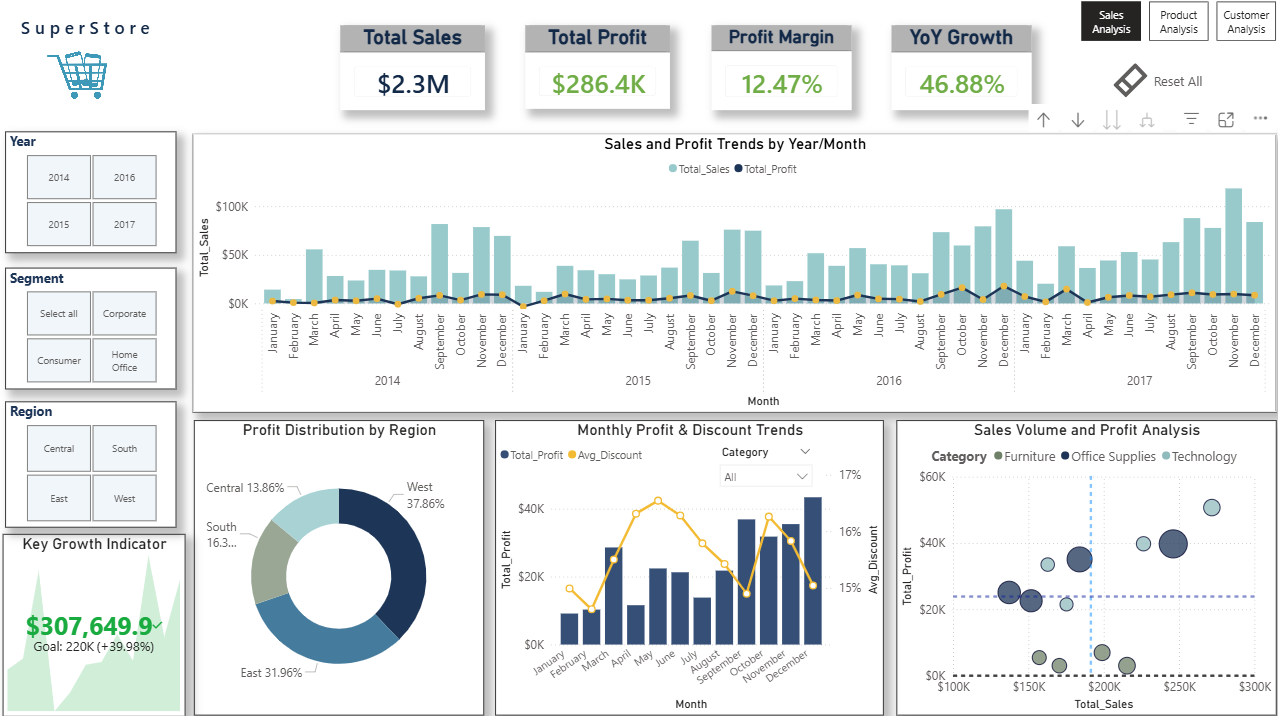

The page's visual inventory and layout, read from the dashboard file:
{"tool":"powerbi","page":{"name":"Sales Analysis","canvas":[1600,900],"ordinal":0},"visuals":[{"type":"cardVisual","title":"YoY Growth","fields":{"Data":["Measures!.YoY_Growth %"]},"box":[1110.2,38.3,174.2,105.7],"z":0},{"type":"lineStackedColumnComboChart","title":"Sales and Profit Trends by Year/Month","fields":{"Category":["DateTable.Date.Variation.Date Hierarchy.Year","DateTable.Date.Variation.Date Hierarchy.Month"],"Y":["Measures!.Total_Sales"],"Y2":["Measures!.Total_Profit"]},"box":[241,174.2,1348.1,346.8],"z":1000},{"type":"donutChart","title":"Profit Distribution by Region","fields":{"Category":["Superstore.Region"],"Y":["Measures!.Total_Profit"]},"box":[242.6,530.9,360.7,367],"z":2000},{"type":"kpi","title":"Key Growth Indicator","fields":{"Indicator":["Measures!.Total_Sales"],"TrendLine":["DateTable.Month Short"],"Goal":["Measures!.Sales_LY"]},"box":[5,672.4,226.9,226.9],"z":3000},{"type":"slicer","title":"Segment","fields":{"Values":["Superstore.Segment"]},"box":[8.3,341,213,150.8],"z":4000},{"type":"slicer","title":"Region","fields":{"Values":["Superstore.Region"]},"box":[8.3,507.3,213,157],"z":5000},{"type":"slicer","title":"Year","fields":{"Values":["DateTable.Year"]},"box":[8.3,171.5,213,150.8],"z":6000},{"type":"scatterChart","title":"Sales Volume and Profit Analysis","fields":{"X":["Measures!.Total_Sales"],"Y":["Measures!.Total_Profit"],"Size":["Sum(Superstore.Quantity)"],"Series":["Superstore.Category"],"Category":["DateTable.Date.Variation.Date Hierarchy.Year"]},"box":[1116.5,530.9,472.7,367],"z":7000},{"type":"group","id":"g1","title":"Group 1","box":[617.3,530.9,483.6,367],"z":8000},{"type":"group","id":"g2","title":"Group 2","box":[14,21.5,186.6,51.3],"z":9000},{"type":"textbox","box":[14,21.5,186.6,51.3],"z":10000,"group":"g2"},{"type":"cardVisual","title":"Total Sales","fields":{"Data":["Measures!.Total_Sales"]},"box":[424.5,38.3,180.4,105.7],"z":10000},{"type":"cardVisual","title":"Total Profit","fields":{"Data":["Measures!.Total_Profit"]},"box":[655.2,38.3,180.4,104.2],"z":11000},{"type":"cardVisual","title":"Profit Margin","fields":{"Data":["Measures!.Profit_Margin"]},"box":[885.8,38.3,174.2,105.7],"z":12000},{"type":"pageNavigator","box":[1346.6,9.3,242.6,49.8],"z":13000},{"type":"lineStackedColumnComboChart","title":"Monthly Profit & Discount Trends","fields":{"Y":["Measures!.Total_Profit"],"Y2":["Measures!.Avg_Discount"],"Category":["DateTable.Date.Variation.Date Hierarchy.Month"]},"box":[617.3,530.9,483.6,367],"z":13000,"group":"g1"},{"type":"actionButton","box":[23.3,57.2,163.3,74.6],"z":14000},{"type":"slicer","fields":{"Values":["Superstore.Category"]},"box":[886.6,556.8,135.3,59.1],"z":14000,"group":"g1"},{"type":"actionButton","box":[1382.6,81.7,168.7,50.4],"z":15000}]}

Visuals, with their boxes in screenshot pixels (x1, y1, x2, y2), scaled from the page's 1600x900 canvas onto the 1278x716 screenshot:
"YoY Growth" cardVisual: {"left": 887, "top": 30, "right": 1026, "bottom": 115}
"Sales and Profit Trends by Year/Month" lineStackedColumnComboChart: {"left": 192, "top": 139, "right": 1269, "bottom": 414}
"Profit Distribution by Region" donutChart: {"left": 194, "top": 422, "right": 482, "bottom": 714}
"Key Growth Indicator" kpi: {"left": 4, "top": 535, "right": 185, "bottom": 715}
"Segment" slicer: {"left": 7, "top": 271, "right": 177, "bottom": 391}
"Region" slicer: {"left": 7, "top": 404, "right": 177, "bottom": 528}
"Year" slicer: {"left": 7, "top": 136, "right": 177, "bottom": 256}
"Sales Volume and Profit Analysis" scatterChart: {"left": 892, "top": 422, "right": 1269, "bottom": 714}
"Group 1" group: {"left": 493, "top": 422, "right": 879, "bottom": 714}
"Group 2" group: {"left": 11, "top": 17, "right": 160, "bottom": 58}
textbox: {"left": 11, "top": 17, "right": 160, "bottom": 58}
"Total Sales" cardVisual: {"left": 339, "top": 30, "right": 483, "bottom": 115}
"Total Profit" cardVisual: {"left": 523, "top": 30, "right": 667, "bottom": 113}
"Profit Margin" cardVisual: {"left": 708, "top": 30, "right": 847, "bottom": 115}
pageNavigator: {"left": 1076, "top": 7, "right": 1269, "bottom": 47}
"Monthly Profit & Discount Trends" lineStackedColumnComboChart: {"left": 493, "top": 422, "right": 879, "bottom": 714}
actionButton: {"left": 19, "top": 46, "right": 149, "bottom": 105}
slicer - Superstore.Category: {"left": 708, "top": 443, "right": 816, "bottom": 490}
actionButton: {"left": 1104, "top": 65, "right": 1239, "bottom": 105}
